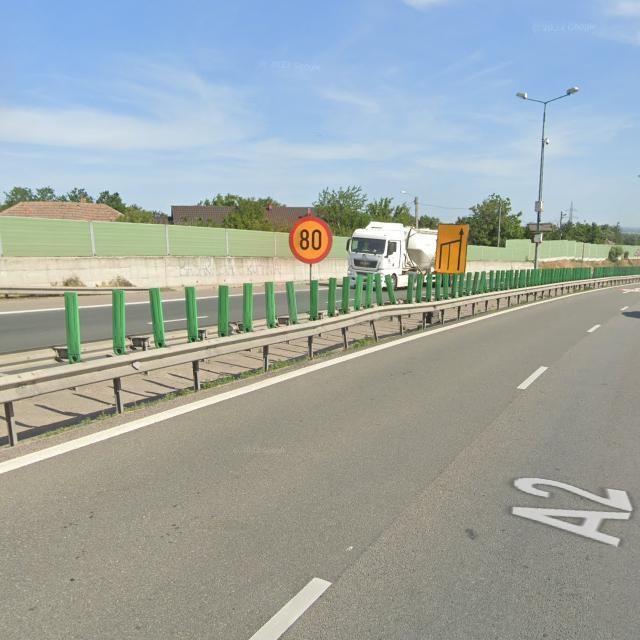forb_speed_over_80: (289, 216, 333, 265)
